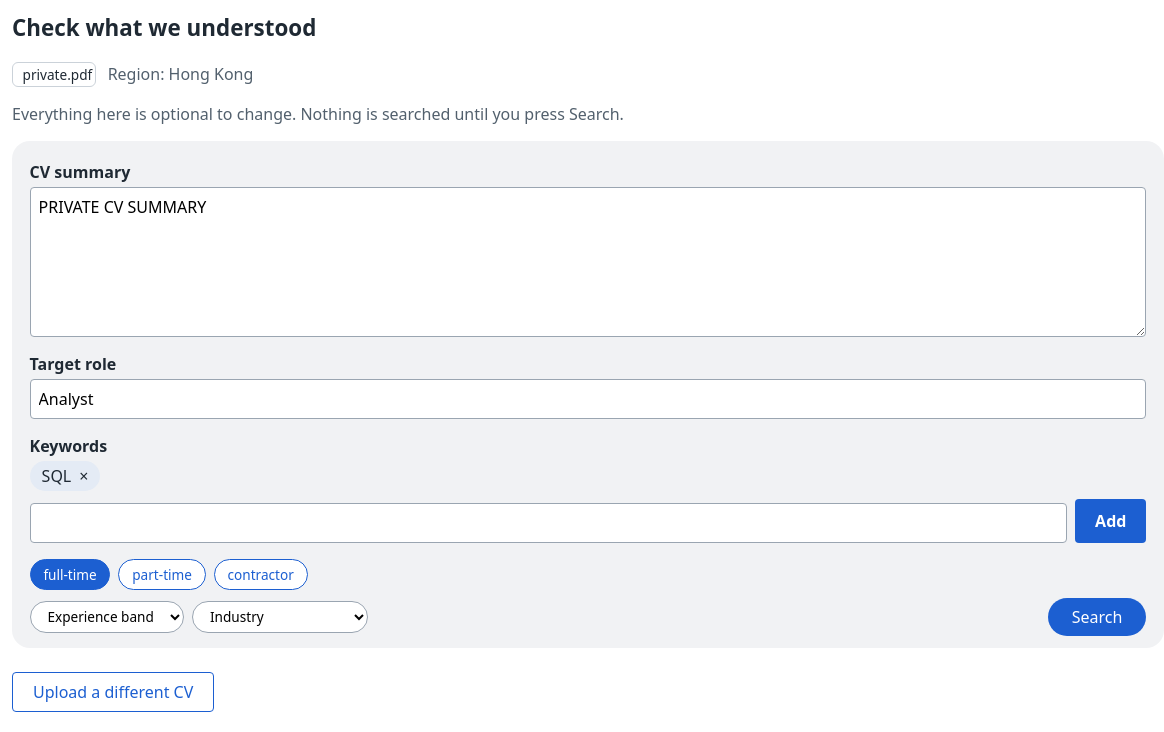
Scenario: stops polling and clears review data when the backend loses the request
Click the button "Search": (1097, 617) [1048,598,1146,636]
Wait 4000 ms
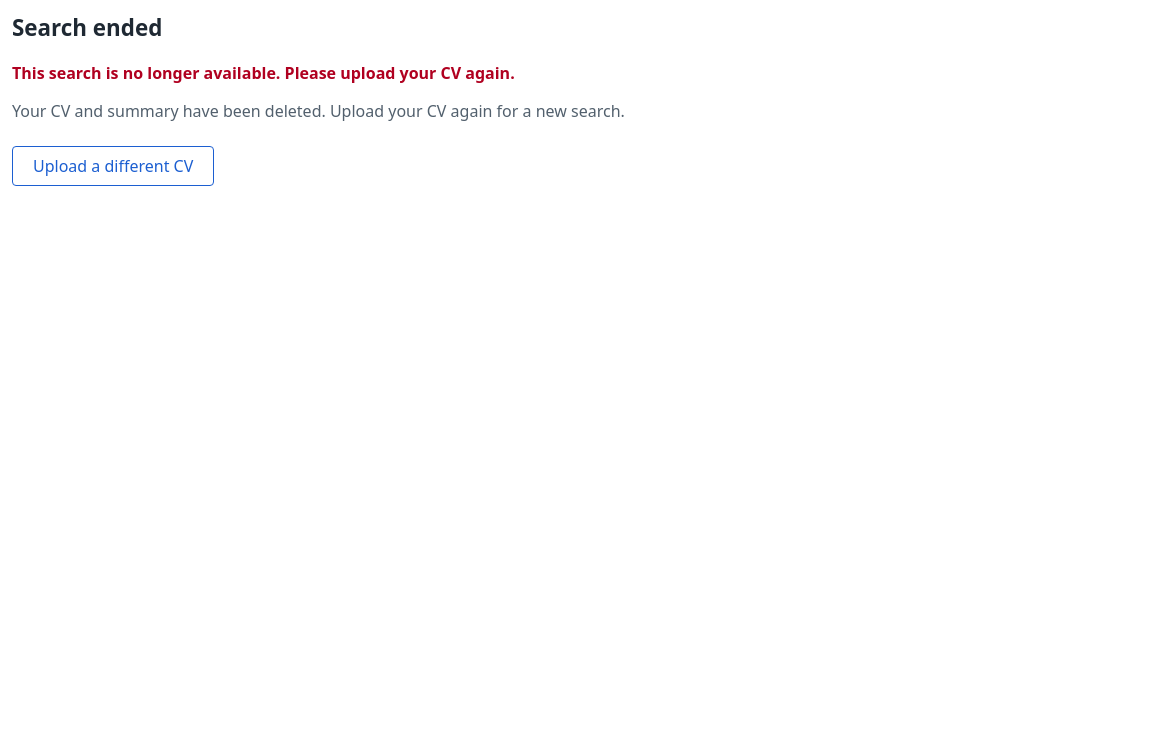
Now the label labelled "CV summary" is gone
Now the message shows "upload your CV again", box [12,62,515,84]
